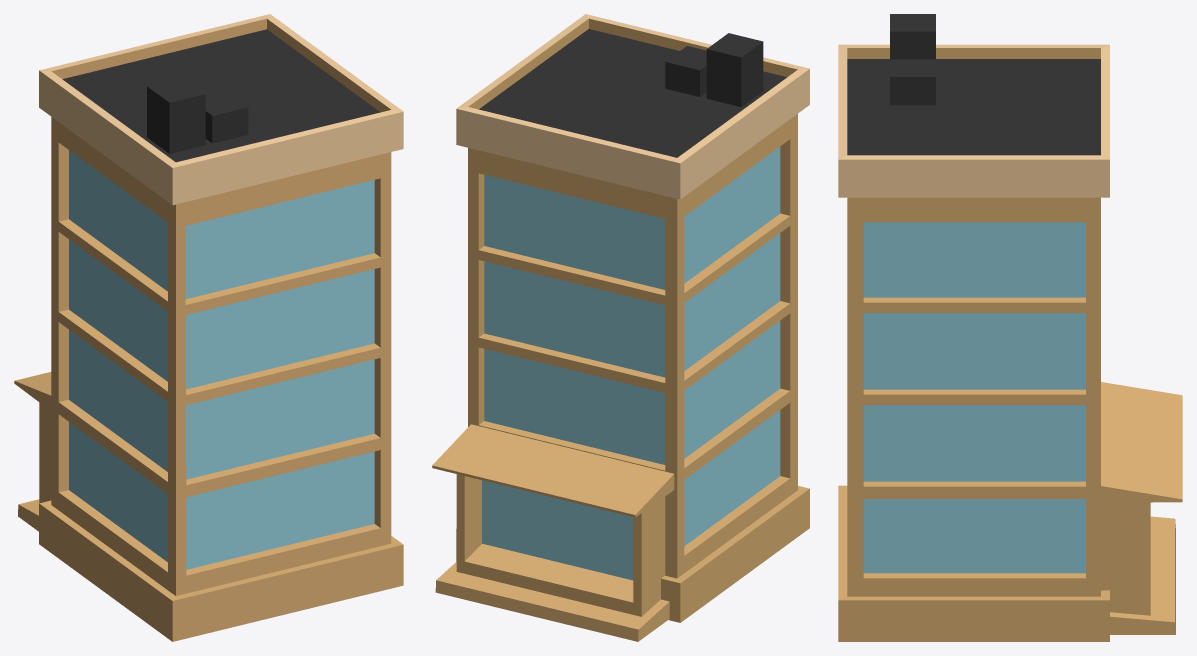
File: houses1.glb
3 views of the same model, side by side, from view 1: azimuth 30°, elevation 25°; view 2: azimuth 150°, elevation 25°; view 3: azimuth 270°, elevation 25° (orthographic). The views are drawn at different scales.
Visible parts, largest first — view 1: House_3.003, House_3.001, House_3.002, House_3; view 2: House_3.001, House_3.003, House_3.002, House_3; view 3: House_3.001, House_3.003, House_3.002, House_3.
Boxes of the visible parts, x1,y1,x2,y2 form: House_3.003: (69, 150, 374, 569); House_3.001: (14, 18, 403, 641); House_3.002: (62, 29, 380, 162); House_3: (39, 14, 403, 205); House_3.001: (432, 18, 809, 641); House_3.003: (482, 147, 780, 580); House_3.002: (479, 29, 786, 157); House_3: (456, 14, 809, 199); House_3.001: (838, 48, 1182, 641); House_3.003: (863, 222, 1085, 573); House_3.002: (847, 14, 1100, 155); House_3: (838, 44, 1109, 197).
Bounding box in the file's own units: 2.32 × 4.93 × 2.93.
